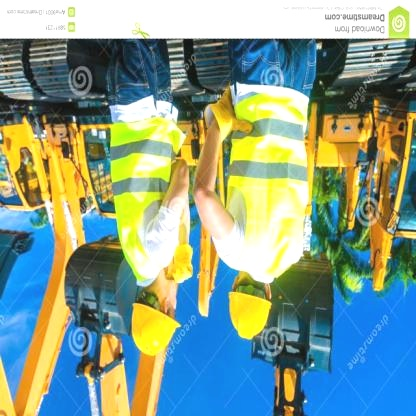vest: (216, 74, 317, 284), (99, 116, 194, 280)
yellow: (223, 284, 278, 347), (131, 300, 184, 360)
